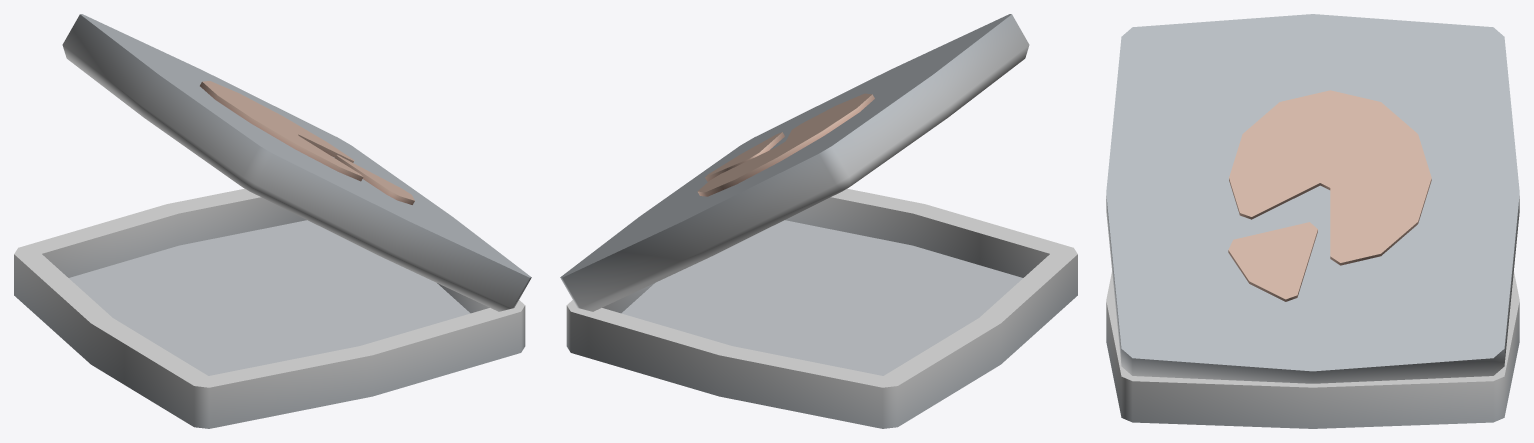
Rendered from pizza-box-open.glb.
The picture shows the model from 3 angles, left to right: view 1: azimuth 30°, elevation 25°; view 2: azimuth 150°, elevation 25°; view 3: azimuth 270°, elevation 25°; orthographic projection.
Parts seen in each view (by area): view 1: pizza-box-open; view 2: pizza-box-open; view 3: pizza-box-open.
Part boxes in pixels (x1,y1,x2,y2): pizza-box-open: (14, 14, 531, 428); pizza-box-open: (560, 14, 1077, 428); pizza-box-open: (1106, 14, 1519, 428).
Size of the model in its own units: 0.6608 by 0.4766 by 0.653.
